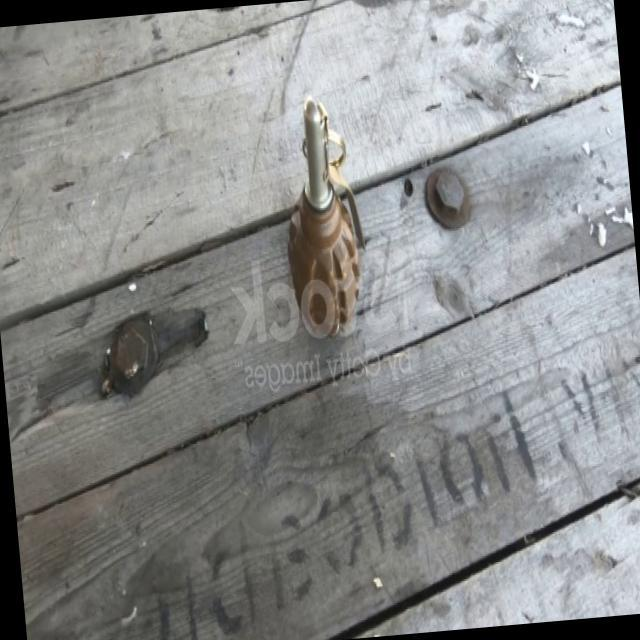grenade: (272, 94, 376, 346)
